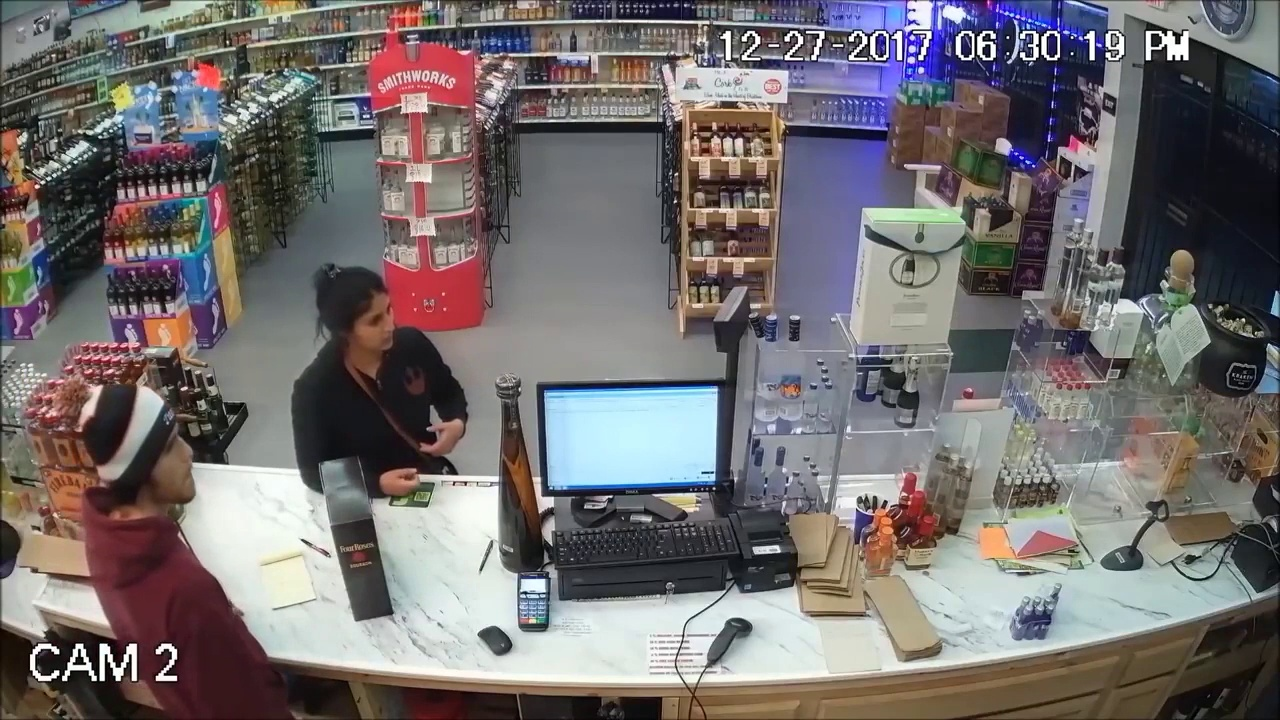face: (130, 423, 199, 505), (335, 293, 402, 354)
